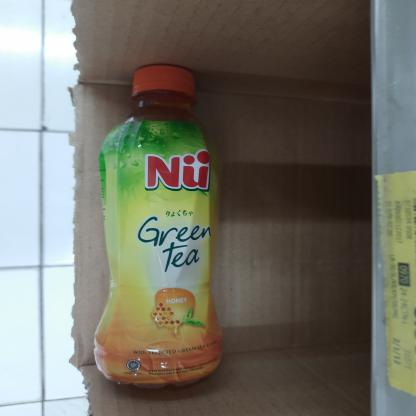plastic: (90, 60, 230, 394)
